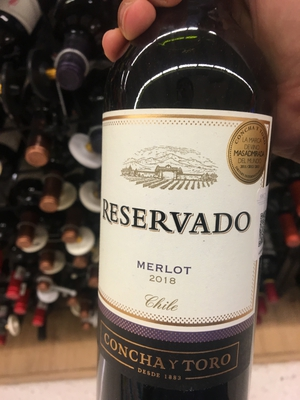reservado merlot: (77, 4, 294, 400)
